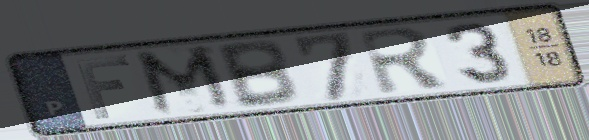3: (444, 21, 515, 84)
7: (287, 29, 356, 103)
B: (211, 37, 302, 111)
F: (71, 53, 134, 121)
M: (130, 43, 241, 120)
R: (354, 24, 455, 97)
